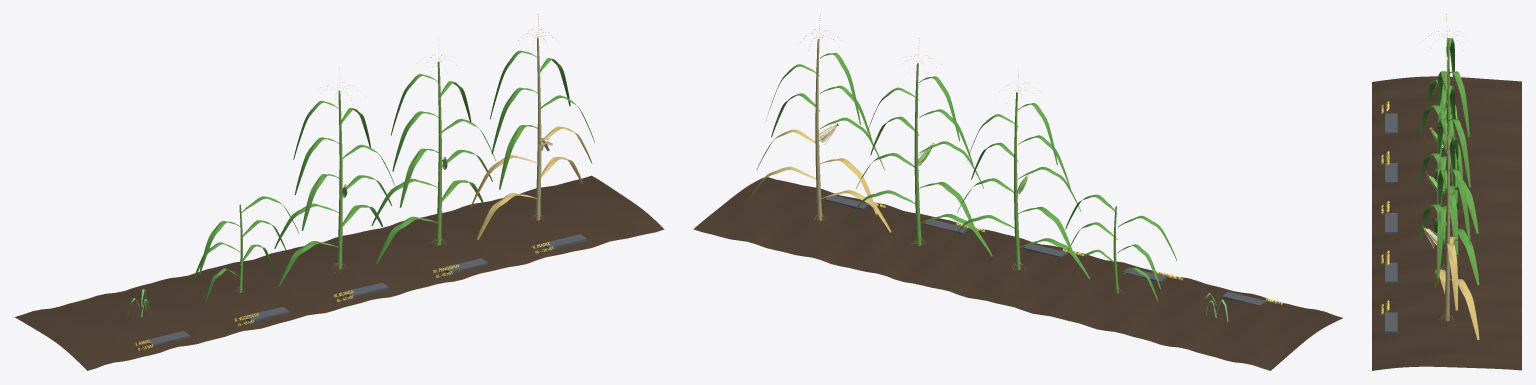
Rendered from fase_pertumbuhan_jagung.glb.
3 views of the same model, side by side, from view 1: azimuth 30°, elevation 25°; view 2: azimuth 150°, elevation 25°; view 3: azimuth 270°, elevation 25° (orthographic). The views are drawn at different scales.
Parts seen in each view (by area): view 1: Soil_Bed, Stage5_Masak, Stage4_Pengisian, Stage3_Pembungaan, Stage2_Vegetatif, Stage4_Pengisian_Stalk, Stage5_Masak_Stalk, Stage3_Pembungaan_Stalk; view 2: Soil_Bed, Stage5_Masak, Stage4_Pengisian, Stage3_Pembungaan, Stage2_Vegetatif, Stage5_Masak_Stalk, Stage4_Pengisian_Stalk, Stage3_Pembungaan_Stalk; view 3: Soil_Bed, Stage5_Masak, Stage4_Pengisian, Stage3_Pembungaan, Stage5_Masak_Stalk, Stage2_Vegetatif, Stage4_Pengisian_Stalk, Plaque_Base_Stage1, Plaque_Base_Stage5, Plaque_Base_Stage3, Plaque_Base_Stage4, Plaque_Base_Stage2 (+1 smaller).
Part boxes in pixels (x1,y1,x2,y2): Soil_Bed: (15,175,664,370); Stage5_Masak: (471,50,594,239); Stage4_Pengisian: (371,74,495,263); Stage3_Pembungaan: (274,100,394,286); Stage2_Vegetatif: (192,196,299,304); Stage4_Pengisian_Stalk: (436,61,441,245); Stage5_Masak_Stalk: (535,37,541,220); Stage3_Pembungaan_Stalk: (337,90,342,269); Soil_Bed: (693,177,1342,370); Stage5_Masak: (745,53,891,232); Stage4_Pengisian: (844,76,992,256); Stage3_Pembungaan: (945,103,1089,279); Stage2_Vegetatif: (1065,194,1177,301); Stage5_Masak_Stalk: (815,39,822,220); Stage4_Pengisian_Stalk: (914,63,921,245); Stage3_Pembungaan_Stalk: (1014,92,1020,269); Soil_Bed: (1372,76,1521,370); Stage5_Masak: (1419,136,1479,340); Stage4_Pengisian: (1419,85,1479,285); Stage3_Pembungaan: (1419,38,1478,233); Stage5_Masak_Stalk: (1444,134,1449,321); Stage2_Vegetatif: (1427,79,1462,179); Stage4_Pengisian_Stalk: (1444,84,1449,270); Plaque_Base_Stage1: (1385,113,1397,134); Plaque_Base_Stage5: (1385,312,1397,333); Plaque_Base_Stage3: (1385,213,1397,234); Plaque_Base_Stage4: (1385,262,1397,283); Plaque_Base_Stage2: (1385,163,1397,183).
Size of the model in its own units: 6.4 by 2.28 by 1.4.
